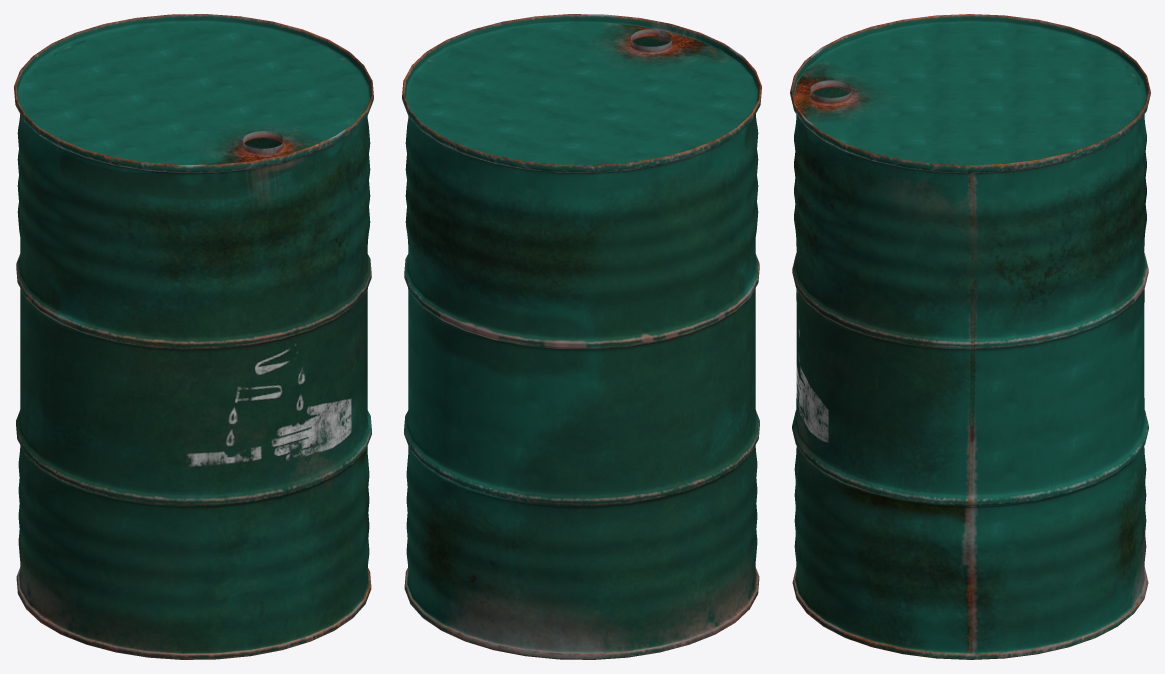
File: barrel.glb
3 views of the same model, side by side, from view 1: azimuth 30°, elevation 25°; view 2: azimuth 150°, elevation 25°; view 3: azimuth 270°, elevation 25° (orthographic).
Parts seen in each view (by area): view 1: Avid Waste Barrel_0; view 2: Avid Waste Barrel_0; view 3: Avid Waste Barrel_0.
Boxes of the visible parts, x1,y1,x2,y2 form: Avid Waste Barrel_0: (14,14,373,659); Avid Waste Barrel_0: (402,14,761,659); Avid Waste Barrel_0: (790,14,1150,659).
Bounding box in the file's own units: 0.556 × 0.8443 × 0.556.
1 material, 1 textured.
